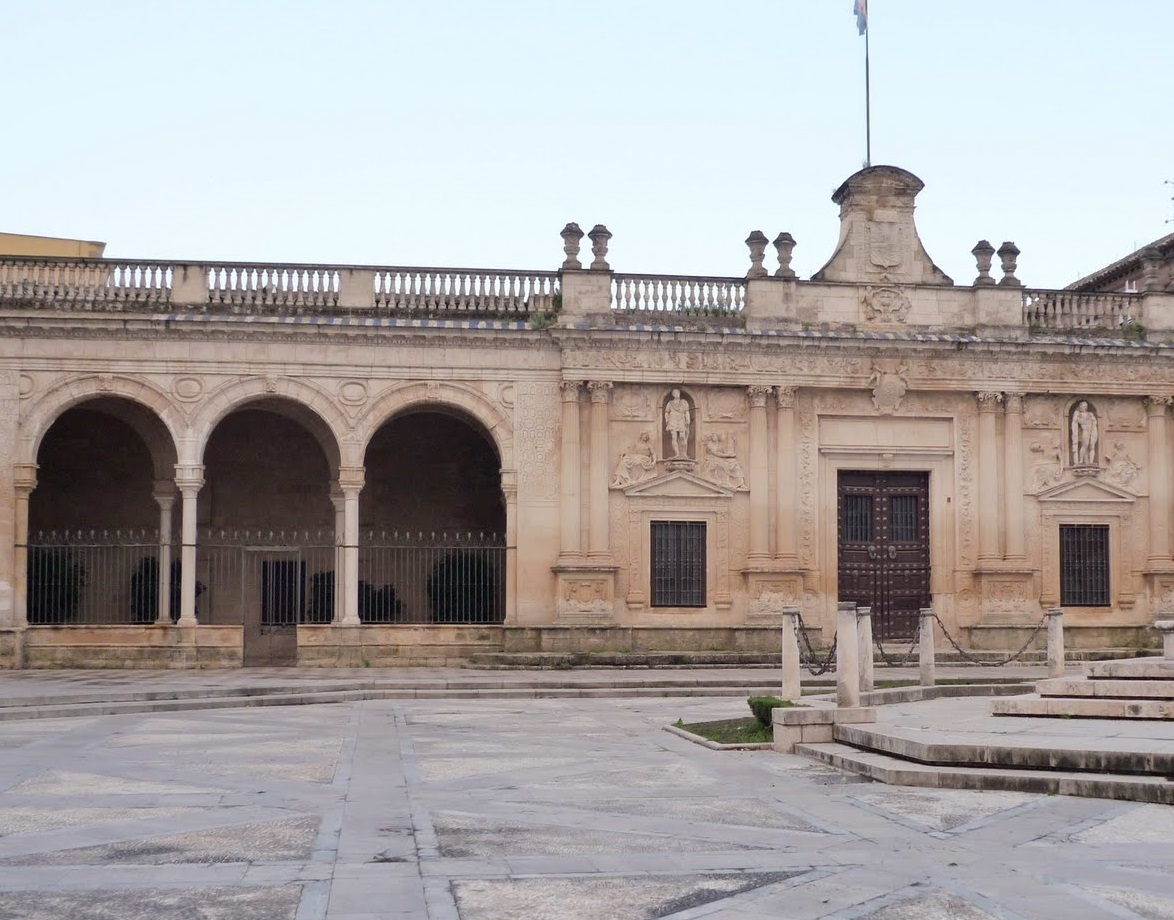arco-medio-punto: (189, 384, 353, 506), (25, 384, 191, 499), (354, 392, 514, 505)
fronton: (622, 467, 733, 502), (1036, 472, 1138, 508)
vano-adintelado: (817, 445, 955, 649), (625, 501, 735, 613), (1037, 506, 1138, 614)
